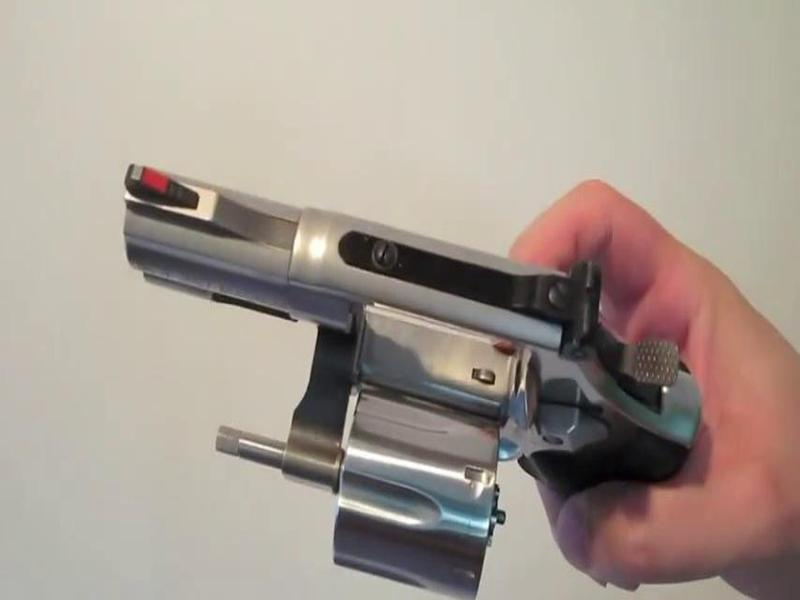Revolver: (107, 153, 720, 600)
